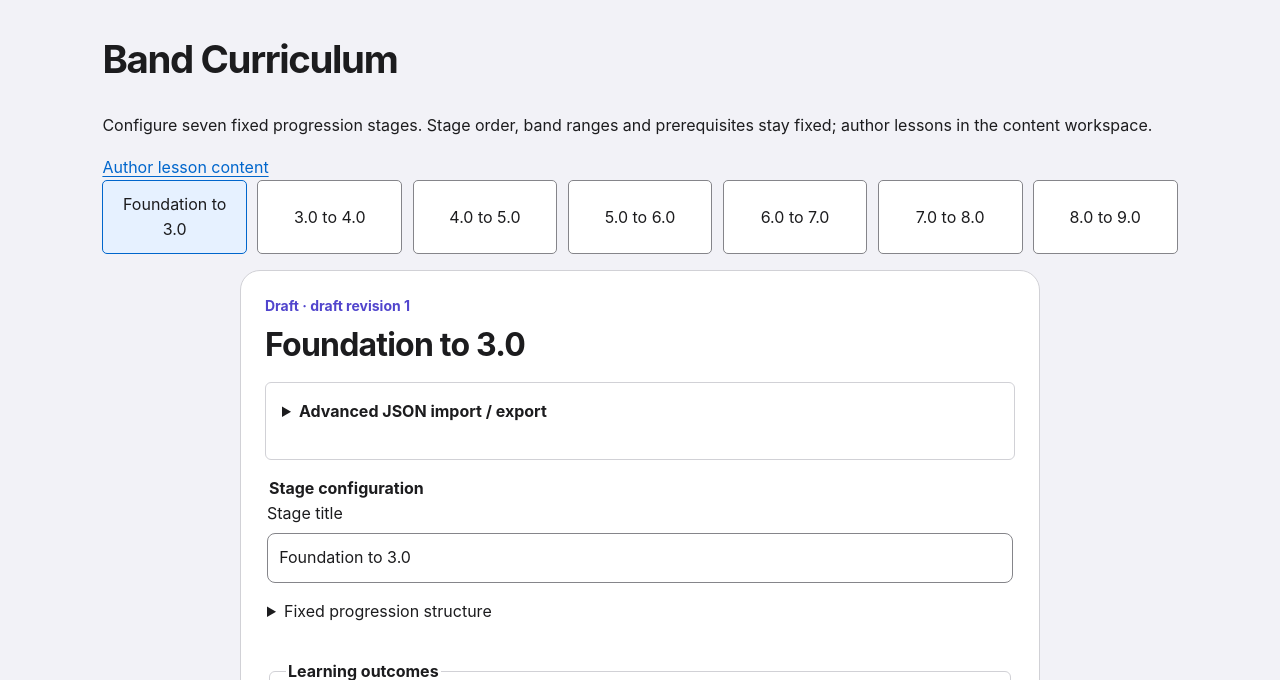
it: loads the canonical seven-stage template as unapplied input before validation
Replace the text in the field labelled "Stage title" with "Keep until applied" at coordinates (640, 558), box [267,533,1013,583]
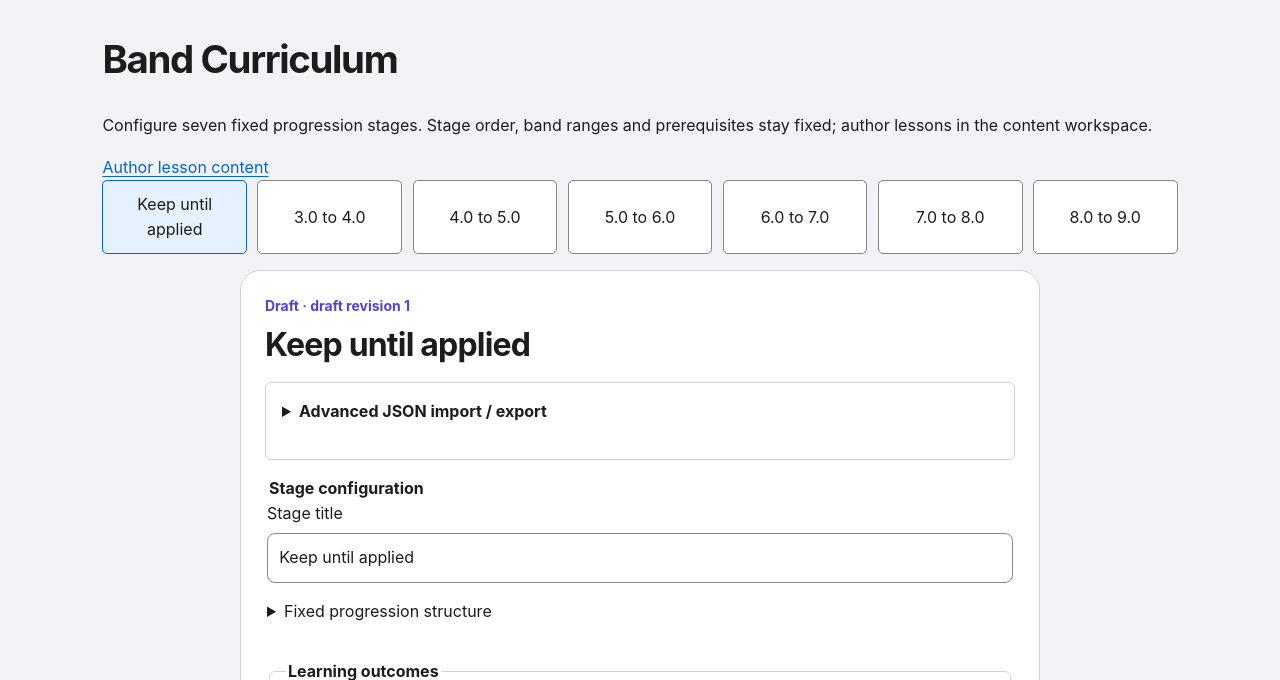
Click the heading "Advanced JSON import / export" at coordinates (423, 411), box [299,401,547,421]
(page scrolled)
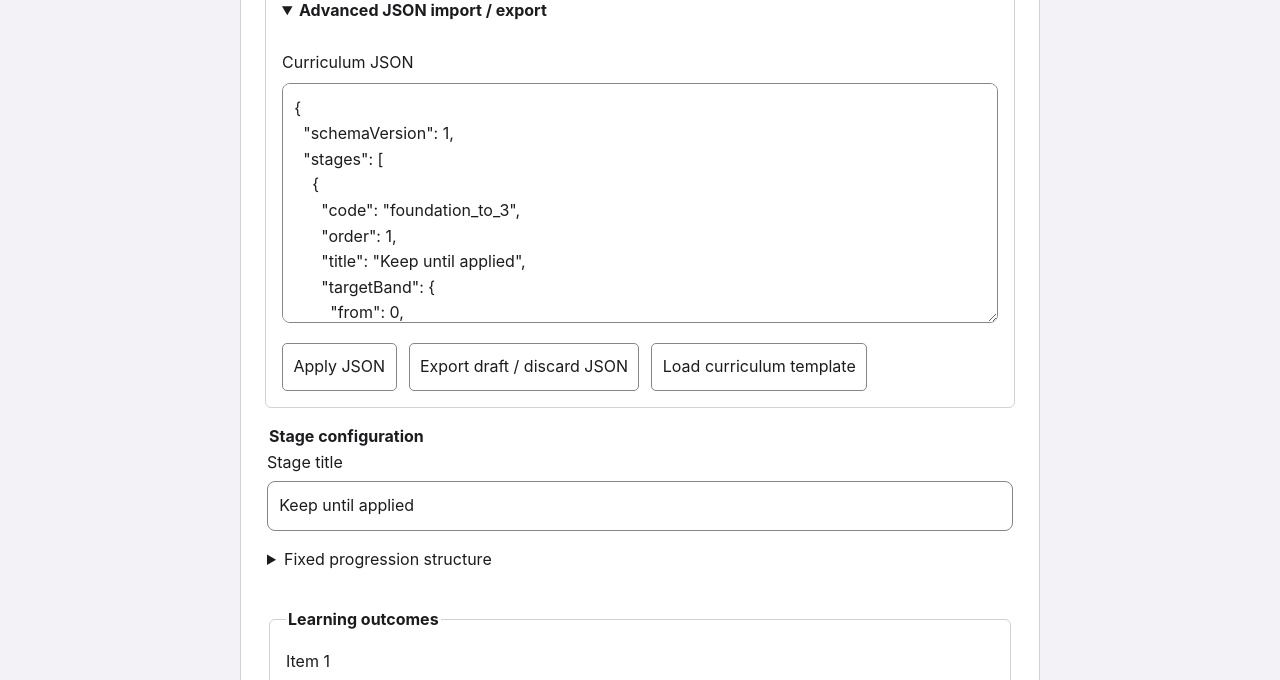
Click the button "Load curriculum template" at coordinates (759, 367), box [651,343,867,391]
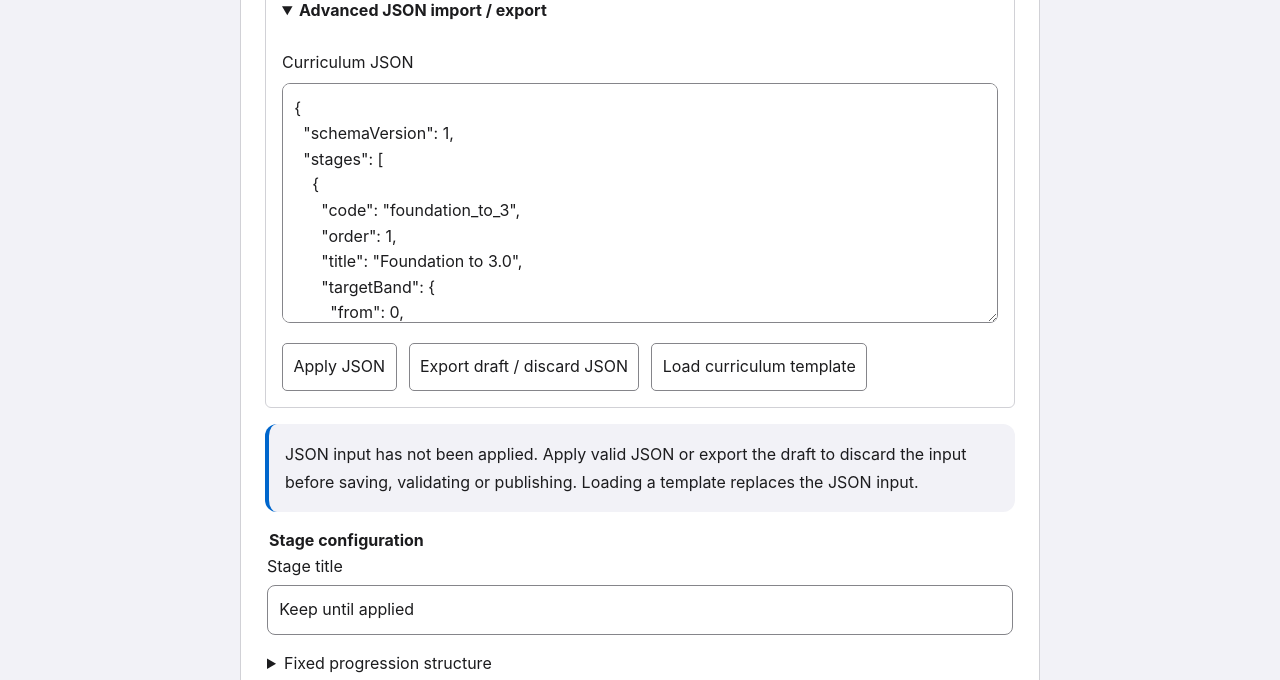
Click the button "Apply JSON" at coordinates (339, 367), box [282,343,396,391]
(page scrolled)
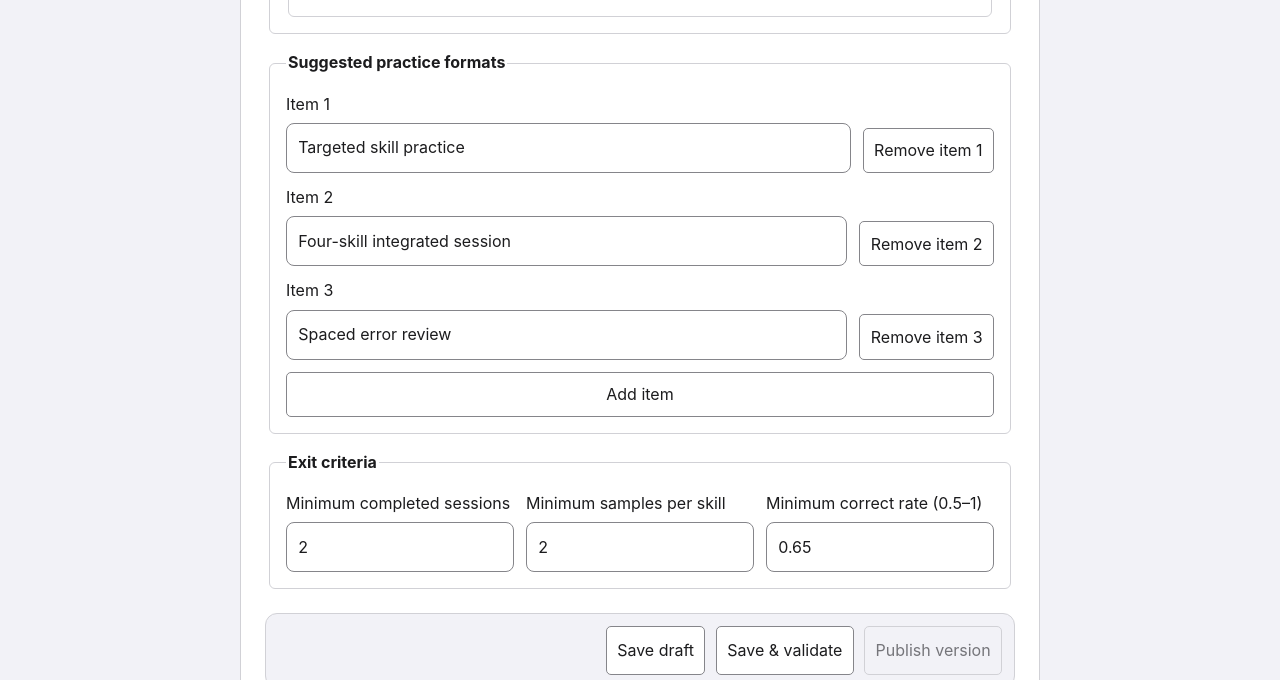
Result: the button "Save & validate" is enabled at [716,626,854,675]
